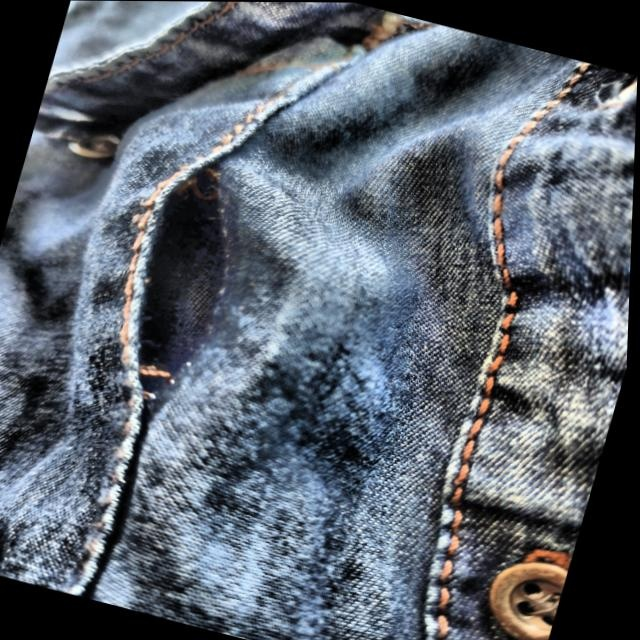seam: (58, 122, 312, 459)
